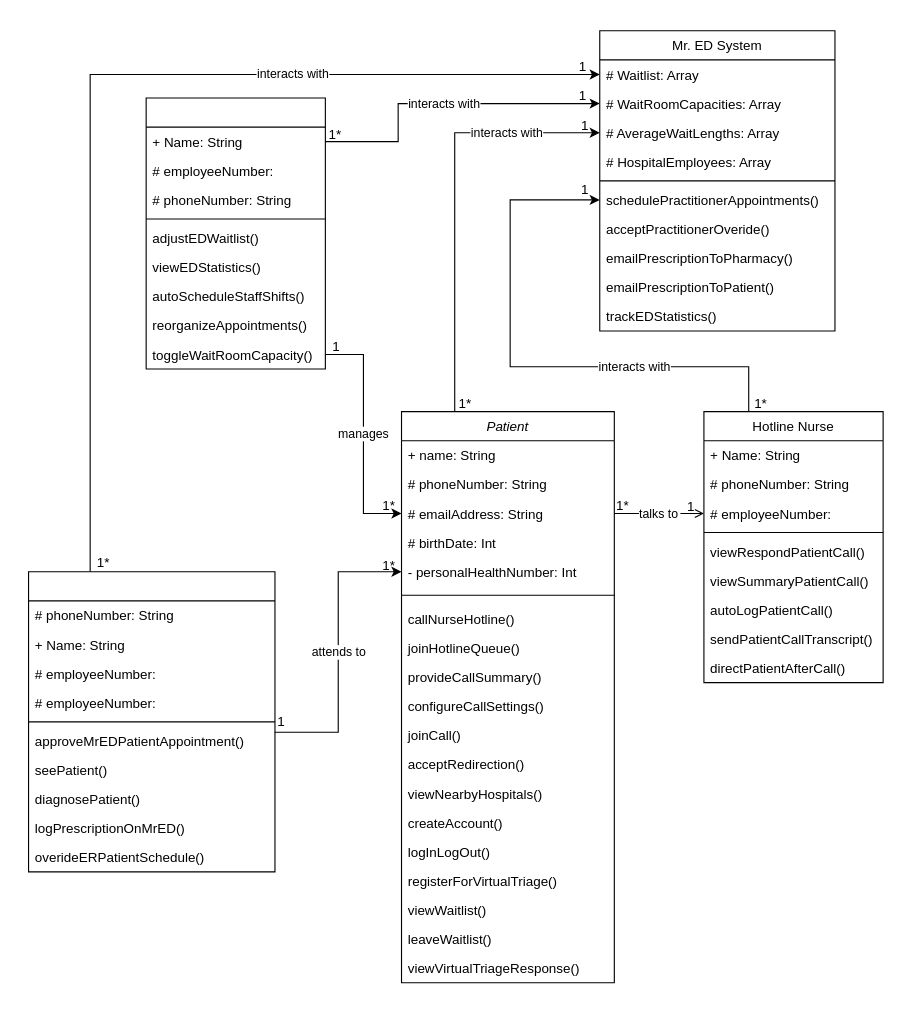
This 921x1016 diagram has some shape labels left out. Each missing label, with the box of its shape:
ED Manager: (145, 97, 325, 369)
General Practitioner: (27, 571, 275, 872)
